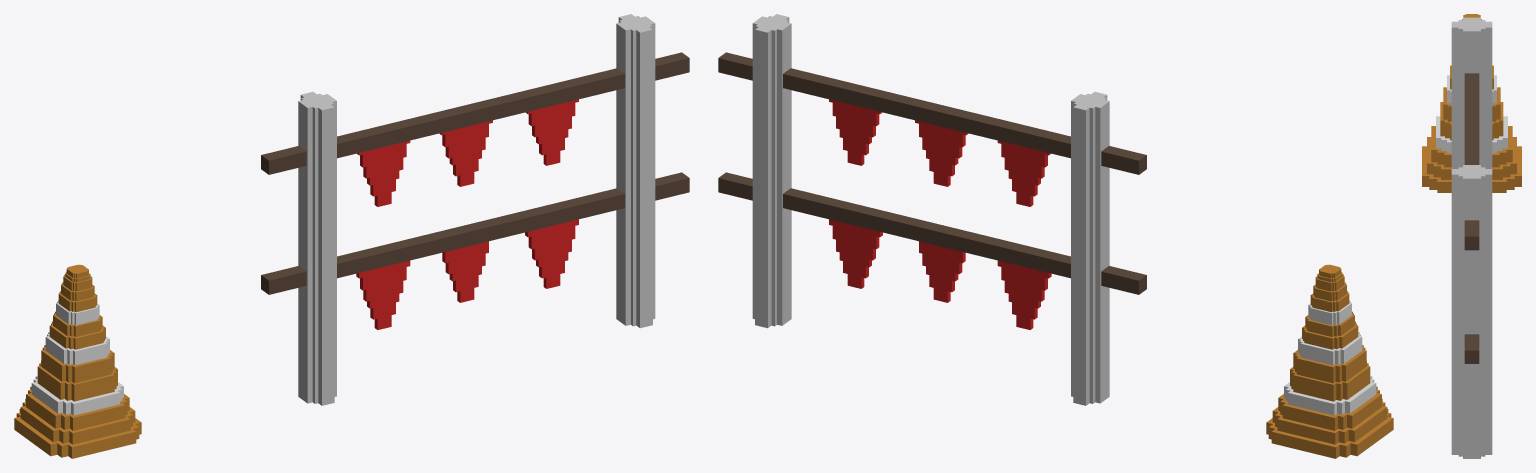
Rendered from opstakels.fbx.
The picture shows the model from 3 angles, left to right: view 1: azimuth 30°, elevation 25°; view 2: azimuth 150°, elevation 25°; view 3: azimuth 270°, elevation 25°; orthographic projection. The views are drawn at different scales.
Visible parts, largest first — view 1: hek_werk, pion; view 2: hek_werk, pion; view 3: hek_werk, pion.
Boxes of the visible parts, bbox=[...] form: hek_werk: bbox=[261, 14, 689, 405]; pion: bbox=[14, 264, 141, 458]; hek_werk: bbox=[718, 14, 1146, 405]; pion: bbox=[1266, 264, 1393, 458]; hek_werk: bbox=[1451, 17, 1492, 458]; pion: bbox=[1422, 14, 1521, 192].
Size of the model in its own units: 9.53 by 4.12 by 1.33.
